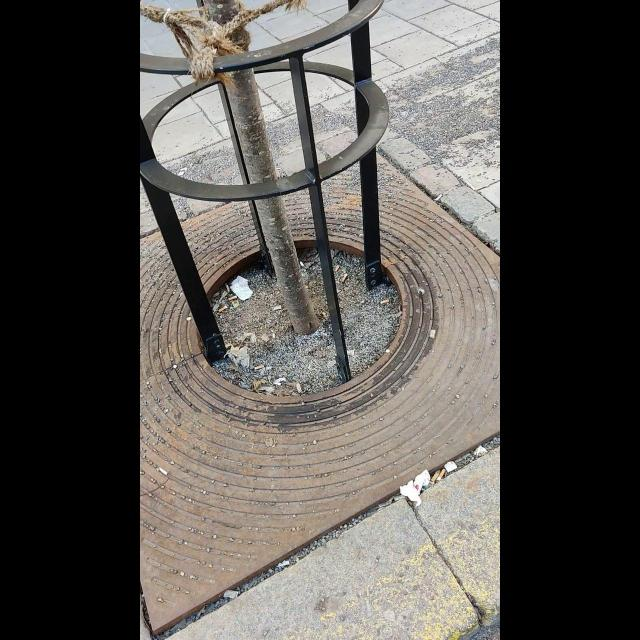cigarette: (225, 588, 238, 601), (438, 468, 446, 484), (296, 382, 304, 393), (434, 193, 443, 202), (218, 306, 228, 314), (429, 328, 436, 338), (432, 471, 438, 482), (256, 363, 264, 371), (272, 305, 282, 311), (334, 264, 341, 272), (381, 298, 389, 304), (229, 295, 237, 300), (343, 273, 347, 282), (225, 284, 230, 290)
